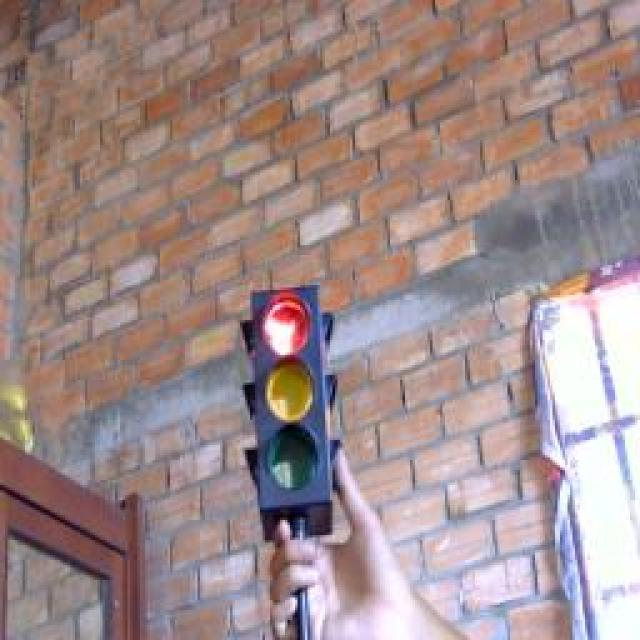-: (256, 286, 318, 358)
